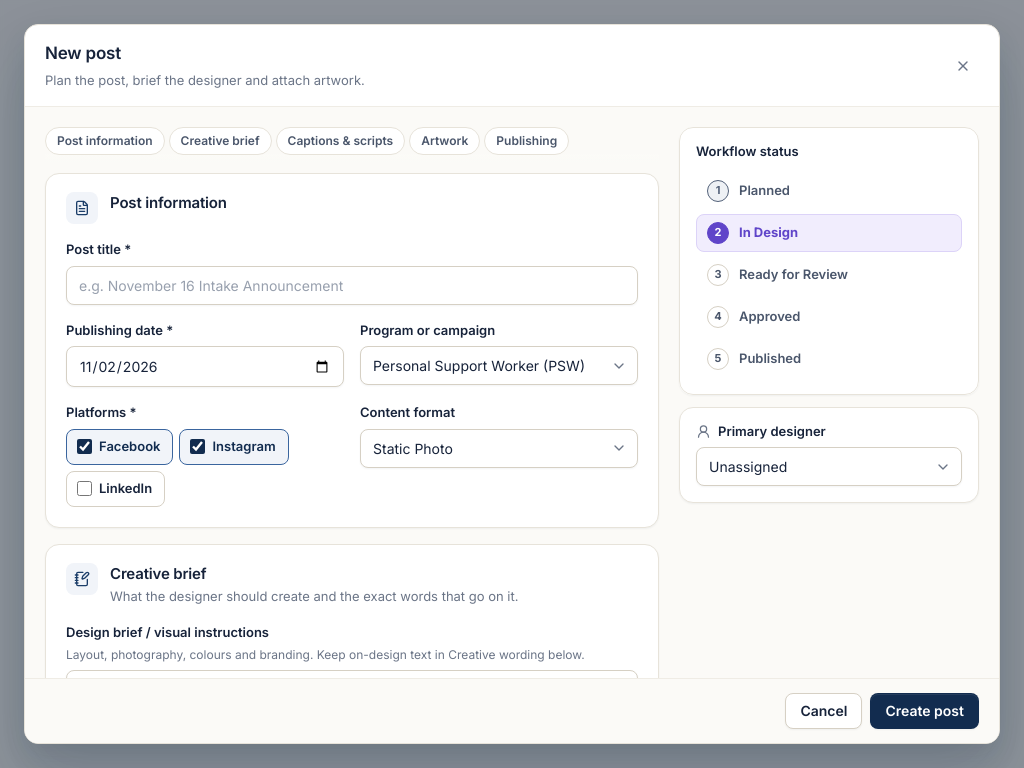
PostEditor — admin › validates required fields before saving a new post
This screenshot has width=1024, height=768.
Click the button "Create post": (925, 711) left=870, top=693, right=979, bottom=729
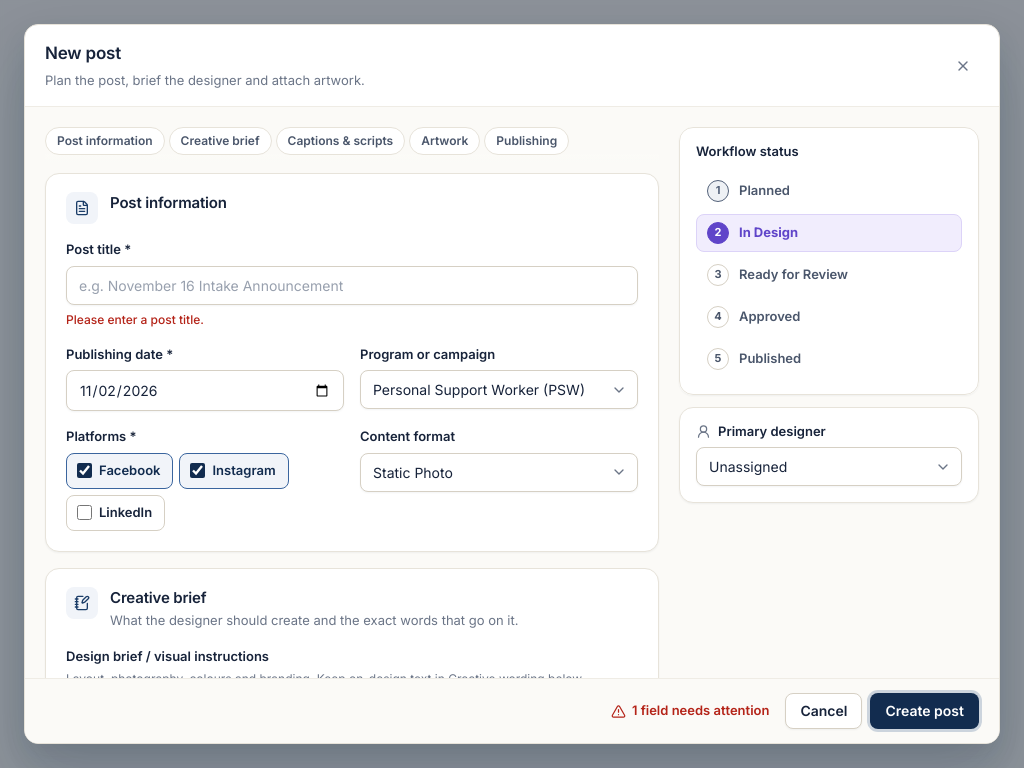
Expected: the text "Please enter a post title." is shown, left=66, top=312, right=204, bottom=326
